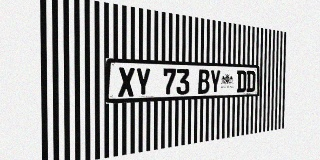3: (176, 69, 189, 95)
7: (162, 68, 176, 95)
B: (198, 69, 209, 94)
D: (237, 70, 246, 92), (246, 71, 255, 92)
X: (118, 67, 135, 97)
Y: (135, 68, 151, 96), (210, 70, 221, 93)
